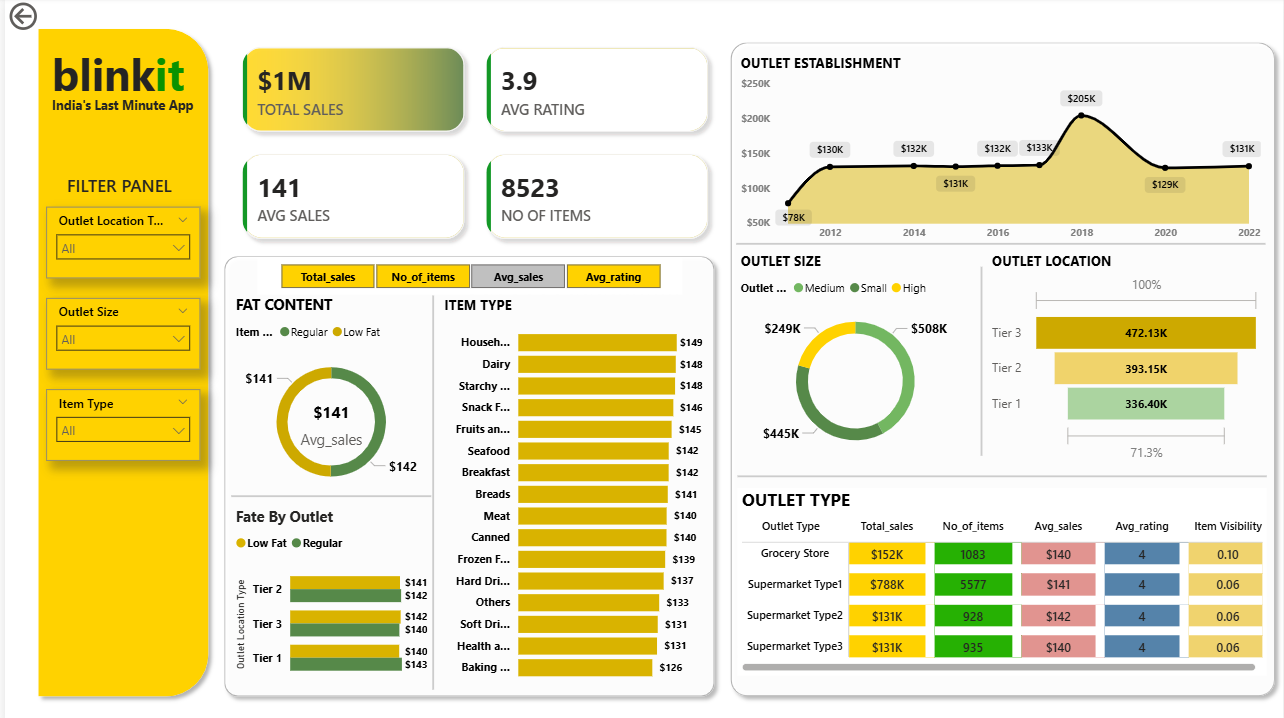

This screenshot's page, from the dashboard's own definition file:
{"tool":"powerbi","page":{"name":"Page 1","canvas":[1400,800],"ordinal":0},"visuals":[{"type":"shape","box":[27.3,24.5,204.5,749.8],"z":0},{"type":"textbox","box":[46.4,45,165,75],"z":1000},{"type":"textbox","box":[46.4,102.3,169.1,35.4],"z":2000},{"type":"actionButton","box":[0,0,100,40],"z":3000},{"type":"cardVisual","fields":{"Data":["BlinkIT Grocery Data.Total_sales","BlinkIT Grocery Data.Avg_rating","BlinkIT Grocery Data.Avg_sales","BlinkIT Grocery Data.No_of_items"]},"box":[231.8,24.5,569.9,269.9],"z":4000},{"type":"shape","box":[231.8,274,554.9,500.3],"z":5000},{"type":"donutChart","title":"FAT CONTENT","fields":{"Y":["BlinkIT Grocery Data.Total_sales"],"Category":["BlinkIT Grocery Data.Item Fat Content"]},"box":[248.6,324.5,219.6,230.6],"z":6000},{"type":"slicer","fields":{"Values":["Metrics.Metrics"]},"box":[276.2,284.5,465.4,40],"z":7000},{"type":"card","fields":{"Values":["BlinkIT Grocery Data.Total_sales"]},"box":[287.7,428.1,140.4,76.3],"z":8000},{"type":"clusteredBarChart","title":"Fate By Outlet","fields":{"Y":["BlinkIT Grocery Data.Total_sales"],"Category":["BlinkIT Grocery Data.Outlet Location Type"],"Series":["BlinkIT Grocery Data.Item Fat Content"]},"box":[248.6,555.7,220,202.9],"z":9000},{"type":"shape","box":[248.6,537.2,219.6,18],"z":10000},{"type":"shape","box":[461.2,325.9,15.2,432.2],"z":11000},{"type":"barChart","title":"ITEM TYPE","fields":{"Y":["BlinkIT Grocery Data.Total_sales"],"Category":["BlinkIT Grocery Data.Item Type"]},"box":[476.4,325.9,292.8,432.2],"z":12000},{"type":"shape","box":[785.7,40,614.3,734.3],"z":13000},{"type":"lineChart","title":"OUTLET ESTABLISHMENT","fields":{"Category":["BlinkIT Grocery Data.Outlet Establishment Year"],"Y":["BlinkIT Grocery Data.Total_sales"]},"box":[801.4,60,580,214.3],"z":14000},{"type":"shape","box":[801.4,264.3,580,10],"z":15000},{"type":"donutChart","title":"OUTLET SIZE","fields":{"Y":["BlinkIT Grocery Data.Total_sales"],"Category":["BlinkIT Grocery Data.Outlet Size"]},"box":[801.4,278.6,261.4,235.7],"z":16000},{"type":"shape","box":[1062.9,294.3,14.3,207.1],"z":17000},{"type":"funnel","title":"OUTLET LOCATION","fields":{"Y":["Sum(BlinkIT Grocery Data.Sales)"],"Category":["BlinkIT Grocery Data.Outlet Location Type"]},"box":[1077.1,278.6,304.3,235.7],"z":18000},{"type":"shape","box":[802.9,518.6,580,10],"z":19000},{"type":"pivotTable","title":"OUTLET TYPE","fields":{"Rows":["BlinkIT Grocery Data.Outlet Type"],"Values":["BlinkIT Grocery Data.Total_sales","BlinkIT Grocery Data.No_of_items","BlinkIT Grocery Data.Avg_sales","BlinkIT Grocery Data.Avg_rating","Avg(BlinkIT Grocery Data.Item Visibility)"]},"box":[802.9,537.1,580,205.7],"z":20000},{"type":"slicer","fields":{"Values":["BlinkIT Grocery Data.Outlet Location Type"]},"box":[45.7,228.6,168.6,78.6],"z":21000},{"type":"slicer","fields":{"Values":["BlinkIT Grocery Data.Outlet Size"]},"box":[45.7,328.6,168.6,78.6],"z":22000},{"type":"slicer","fields":{"Values":["BlinkIT Grocery Data.Item Type"]},"box":[45.7,428.6,168.6,78.6],"z":23000},{"type":"textbox","box":[62.9,187.1,130,57.1],"z":24000}]}

Visuals, with their boxes on the page's 1400x800 design canvas (x1, y1, x2, y2). These are canvas units, not pixel positions in the 1284x718 screenshot, which may show the page scaled, cropped or inside an application window:
shape: [27,24,232,774]
textbox: [46,45,211,120]
textbox: [46,102,216,138]
actionButton: [0,0,100,40]
cardVisual - BlinkIT Grocery Data.Total_sales x BlinkIT Grocery Data.Avg_rating: [232,24,802,294]
shape: [232,274,787,774]
"FAT CONTENT" donutChart: [249,324,468,555]
slicer - Metrics.Metrics: [276,284,742,324]
card - BlinkIT Grocery Data.Total_sales: [288,428,428,504]
"Fate By Outlet" clusteredBarChart: [249,556,469,759]
shape: [249,537,468,555]
shape: [461,326,476,758]
"ITEM TYPE" barChart: [476,326,769,758]
shape: [786,40,1400,774]
"OUTLET ESTABLISHMENT" lineChart: [801,60,1381,274]
shape: [801,264,1381,274]
"OUTLET SIZE" donutChart: [801,279,1063,514]
shape: [1063,294,1077,501]
"OUTLET LOCATION" funnel: [1077,279,1381,514]
shape: [803,519,1383,529]
"OUTLET TYPE" pivotTable: [803,537,1383,743]
slicer - BlinkIT Grocery Data.Outlet Location Type: [46,229,214,307]
slicer - BlinkIT Grocery Data.Outlet Size: [46,329,214,407]
slicer - BlinkIT Grocery Data.Item Type: [46,429,214,507]
textbox: [63,187,193,244]
